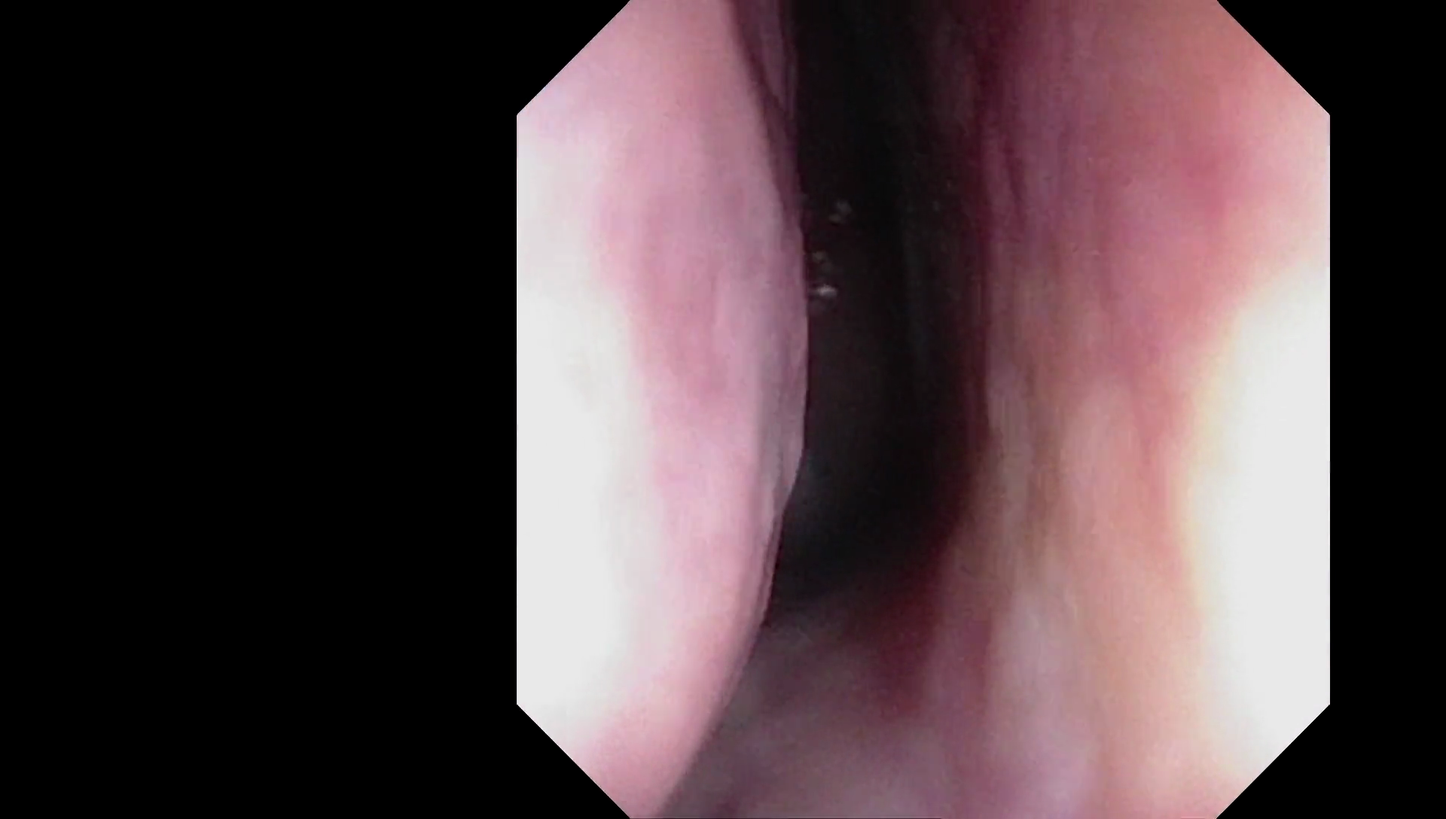close_wall: (518, 123, 767, 698), (1081, 174, 1323, 692)
next: (713, 1, 1017, 693)
